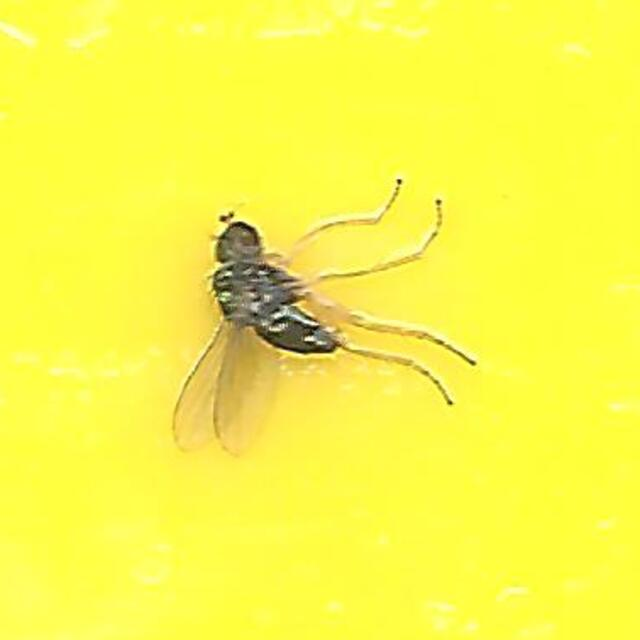Brachycera: (169, 176, 471, 464)
